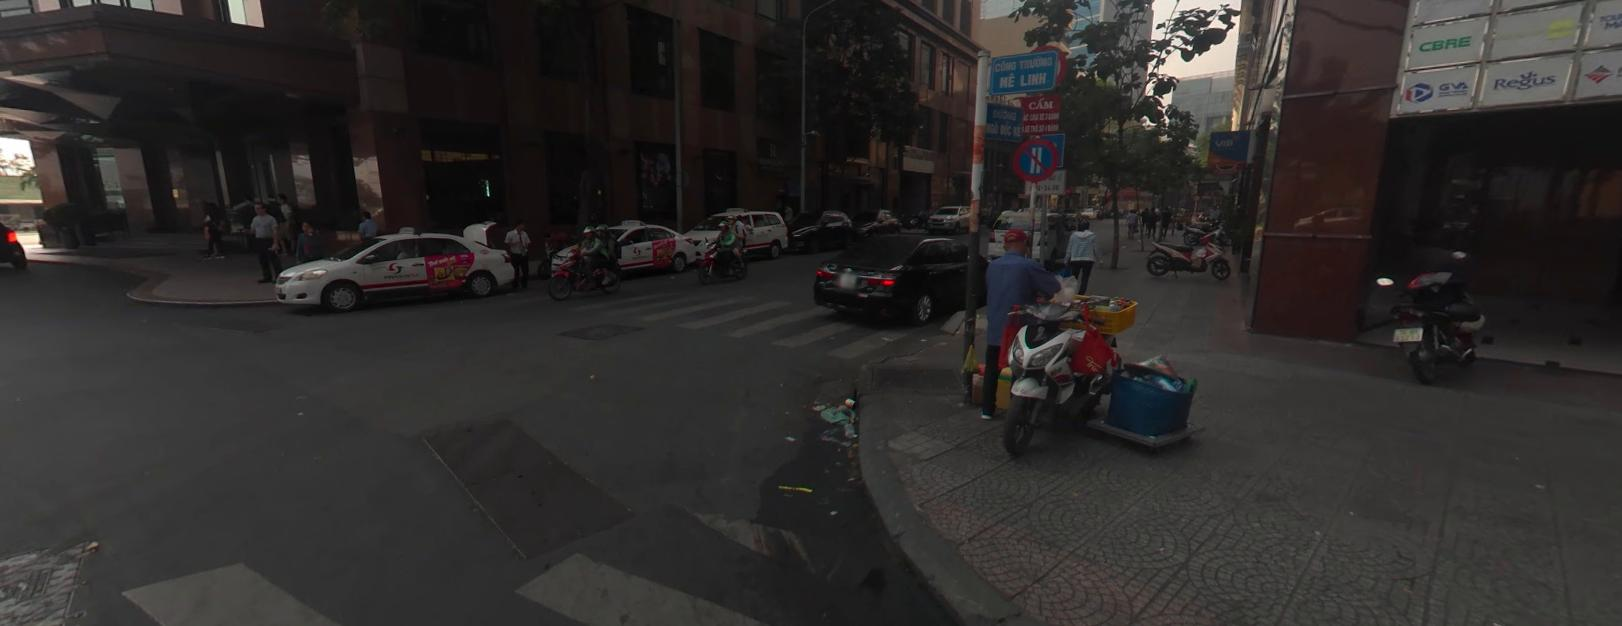Cam con lai: (1028, 44, 1067, 86)
Cam dung va do: (1013, 136, 1056, 178)
